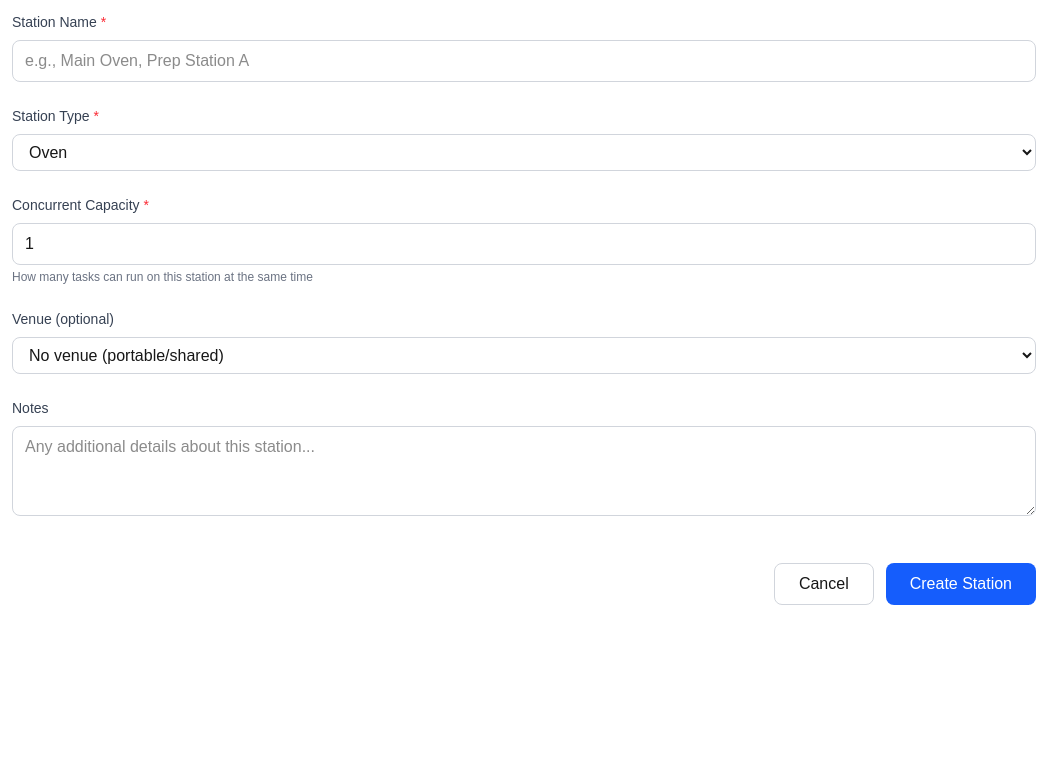
it: StationForm › validation › clears field error when user types
Submit the text "Create Station"
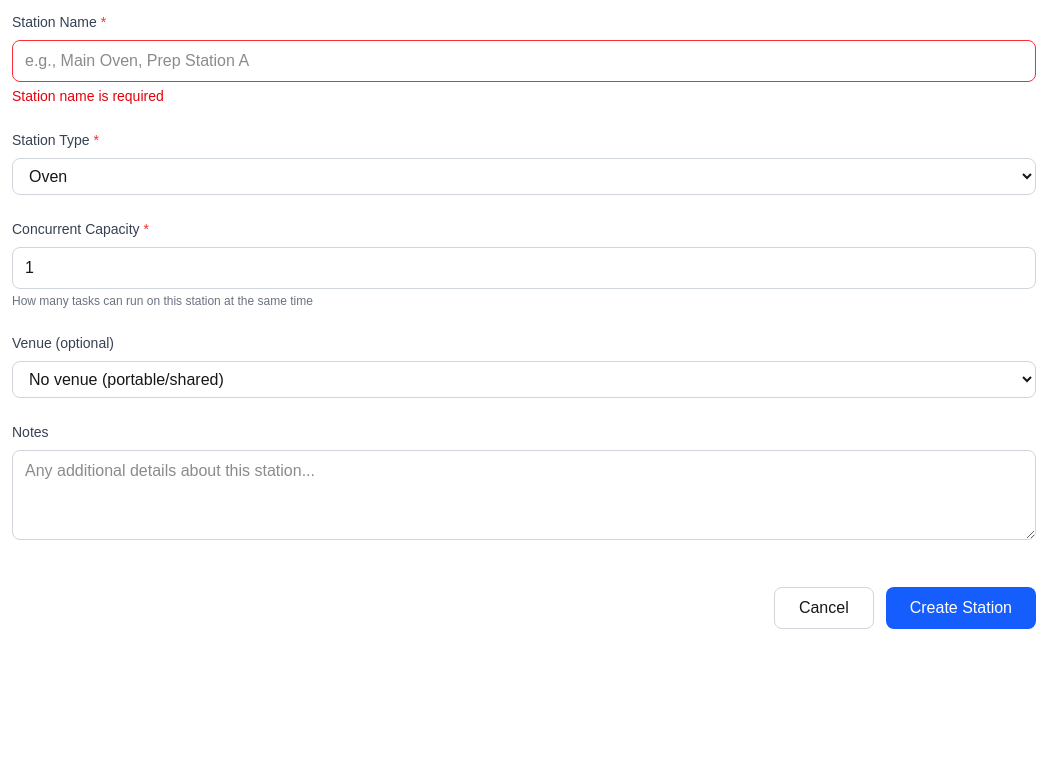
Check: the text "Station name is required" is shown, box [12,88,164,104]
Type "A" into the field labelled "Station Name *".
click(524, 61); type("A")  # box [12,40,1036,82]
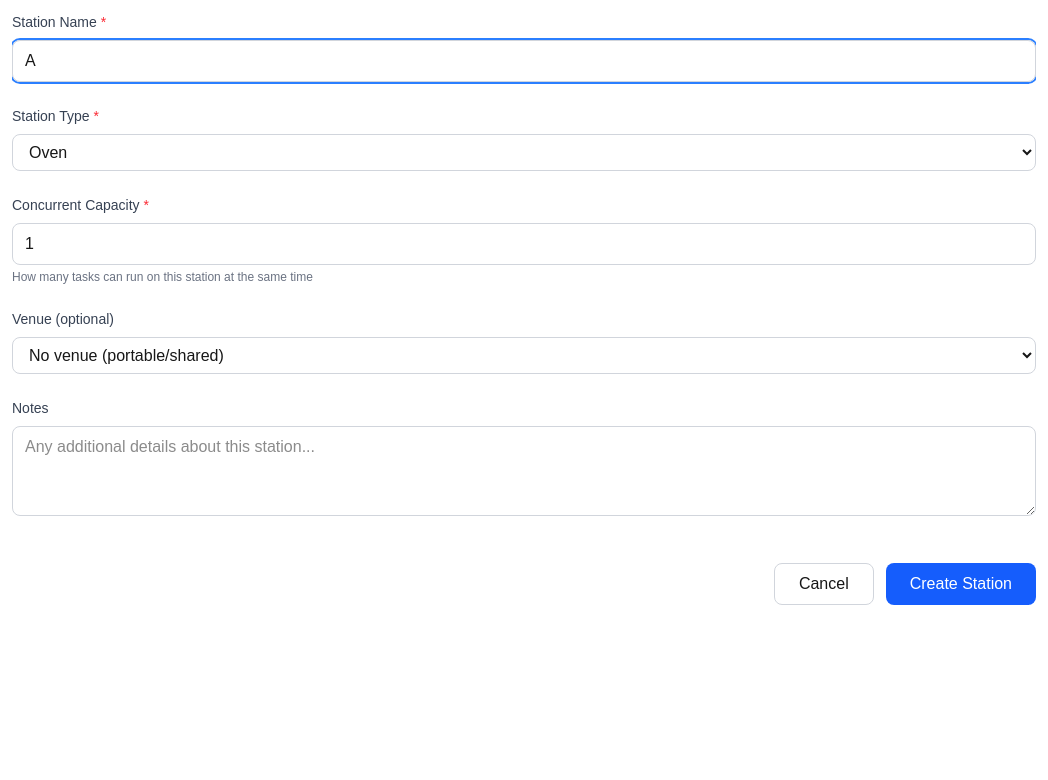
Check: the text "Station name is required" is gone
